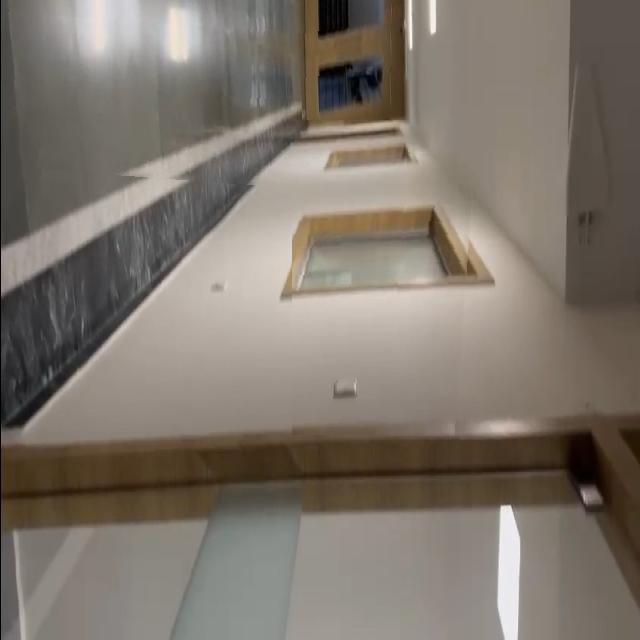door: (301, 0, 398, 134)
floor: (0, 0, 306, 189)
wall: (291, 120, 477, 436)
